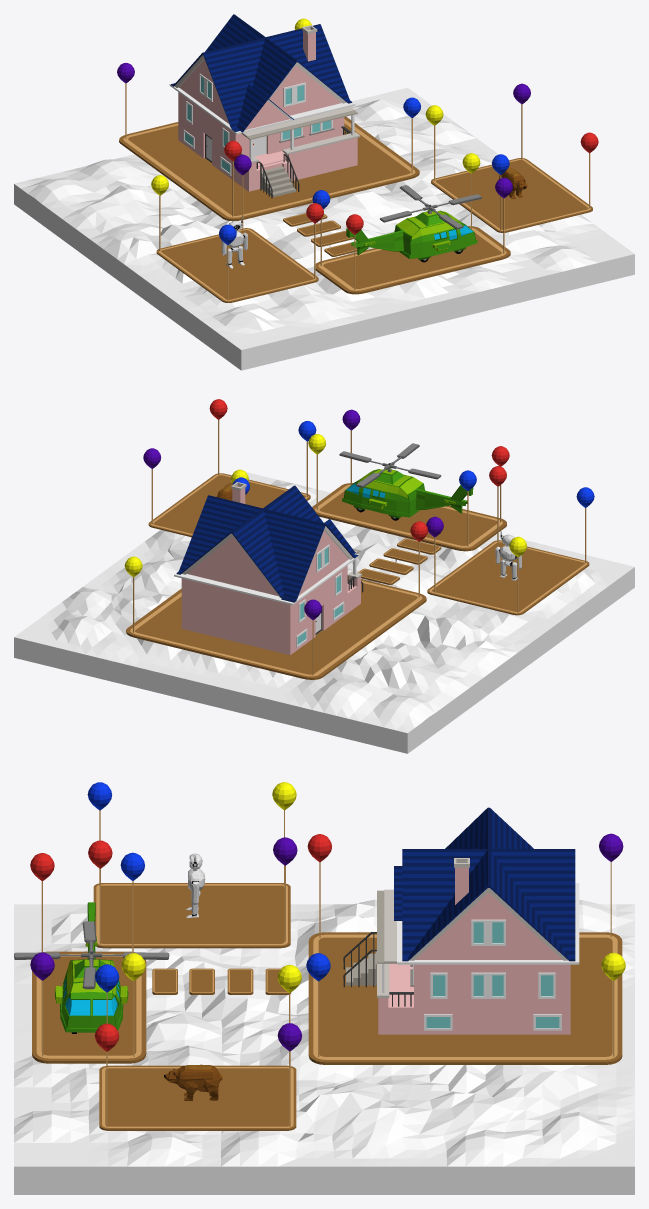
3 renders of one model, top to bottom at view 1: azimuth 30°, elevation 25°; view 2: azimuth 150°, elevation 25°; view 3: azimuth 270°, elevation 25°, orthographic. The views are drawn at different scales.
Visible parts, largest first — view 1: Cube.013, Cube.313, VEHICLES_HELICOPTER, OBJRANDOM_PLATZEEBOT; view 2: Cube.013, Cube.313, VEHICLES_HELICOPTER, OBJRANDOM_PLATZEEBOT; view 3: Cube.013, Cube.313, VEHICLES_HELICOPTER, ANIMAL_OSO, OBJRANDOM_PLATZEEBOT.
Part boxes in pixels (left/top/right/bottom): Cube.013: left=14, top=18, right=634, bottom=370; Cube.313: left=169, top=14, right=360, bottom=198; VEHICLES_HELICOPTER: left=346, top=185, right=481, bottom=262; OBJRANDOM_PLATZEEBOT: left=221, top=216, right=247, bottom=268; Cube.013: left=14, top=399, right=634, bottom=753; Cube.313: left=174, top=482, right=363, bottom=655; VEHICLES_HELICOPTER: left=339, top=443, right=473, bottom=520; OBJRANDOM_PLATZEEBOT: left=495, top=530, right=521, bottom=580; Cube.013: left=14, top=782, right=634, bottom=1194; Cube.313: left=343, top=807, right=579, bottom=1034; VEHICLES_HELICOPTER: left=14, top=902, right=169, bottom=1033; ANIMAL_OSO: left=164, top=1064, right=222, bottom=1100; OBJRANDOM_PLATZEEBOT: left=186, top=853, right=205, bottom=917.
Bounding box in the file's own units: 4000 × 1840 × 4001.
Materials: 35 (1 with a texture image).
